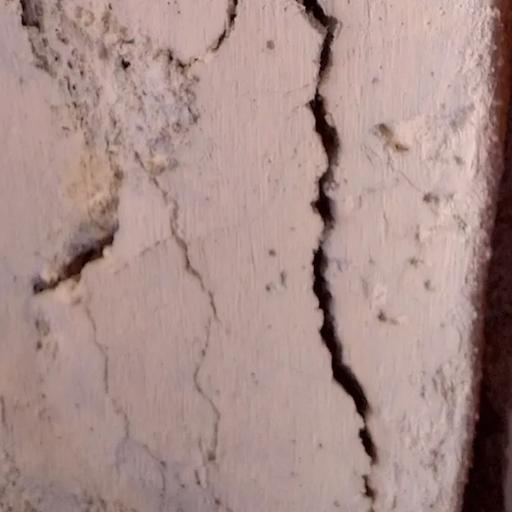major_crack: (174, 0, 391, 512)
